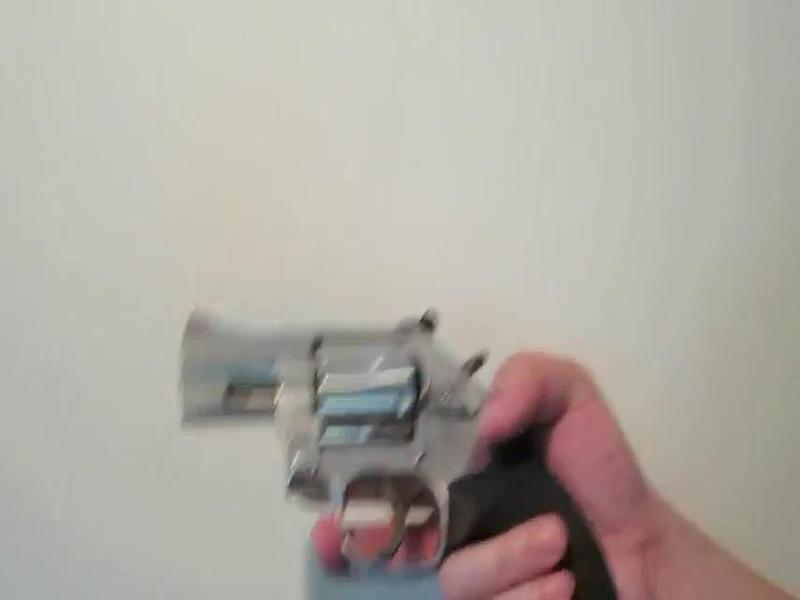Revolver: (158, 273, 537, 583)
